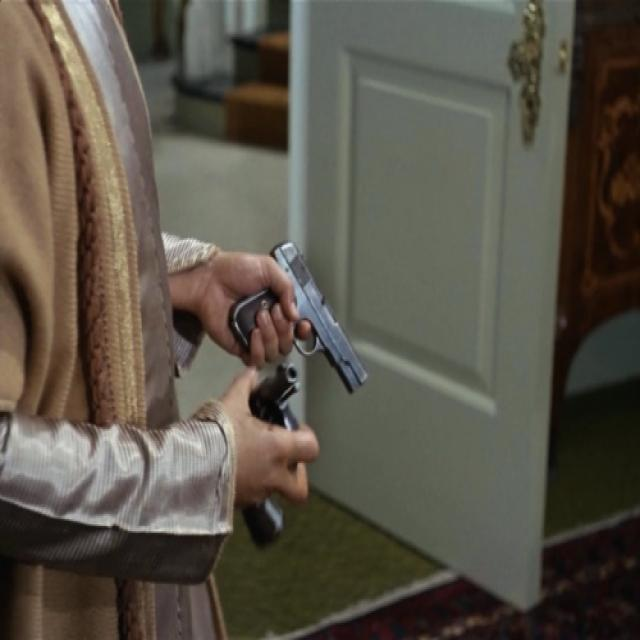weapons: (216, 208, 380, 402)
